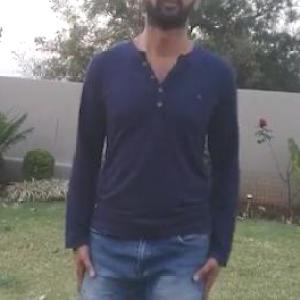follow: (61, 0, 236, 299)
